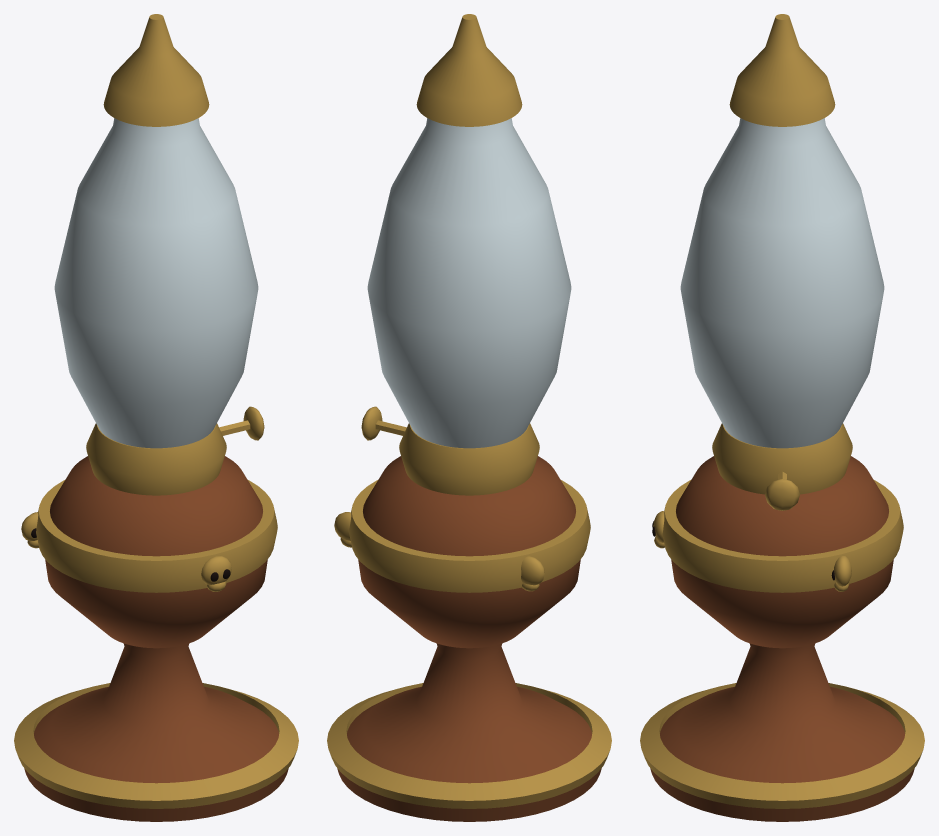
Rendered from PR_OilLamp.fbx.
The picture shows the model from 3 angles, left to right: view 1: azimuth 30°, elevation 25°; view 2: azimuth 150°, elevation 25°; view 3: azimuth 270°, elevation 25°; orthographic projection.
Visible parts, largest first — view 1: PR_OilLamp_GlassClear, PR_OilLamp_Wood, PR_OilLamp_Brass; view 2: PR_OilLamp_GlassClear, PR_OilLamp_Wood, PR_OilLamp_Brass; view 3: PR_OilLamp_GlassClear, PR_OilLamp_Wood, PR_OilLamp_Brass.
Boxes of the visible parts, x1,y1,x2,y2 form: PR_OilLamp_GlassClear: [54, 118, 258, 448]; PR_OilLamp_Wood: [24, 456, 288, 821]; PR_OilLamp_Brass: [14, 14, 298, 808]; PR_OilLamp_GlassClear: [367, 118, 571, 448]; PR_OilLamp_Wood: [337, 456, 601, 821]; PR_OilLamp_Brass: [327, 14, 611, 808]; PR_OilLamp_GlassClear: [680, 118, 884, 448]; PR_OilLamp_Wood: [650, 456, 914, 821]; PR_OilLamp_Brass: [640, 14, 924, 808].
Bounding box in the file's own units: 0.162 × 0.47 × 0.162.
